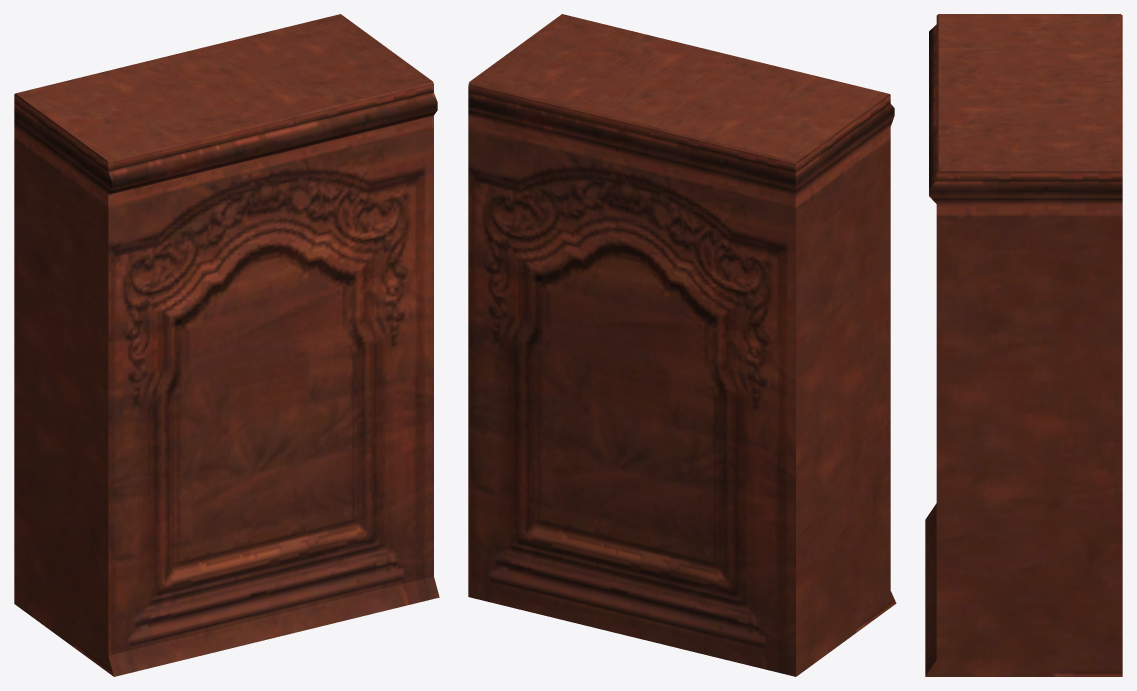
The model's file is bookcase_low.DAE.
3 renders of one model, left to right at view 1: azimuth 30°, elevation 25°; view 2: azimuth 150°, elevation 25°; view 3: azimuth 270°, elevation 25°, orthographic.
Parts seen in each view (by area): view 1: Object001; view 2: Object001; view 3: Object001.
Boxes of the visible parts, x1,y1,x2,y2 form: Object001: (14,14,439,676); Object001: (468,14,896,676); Object001: (925,14,1122,676).
Bounding box in the file's own units: 1 × 1.5 × 0.5307.
